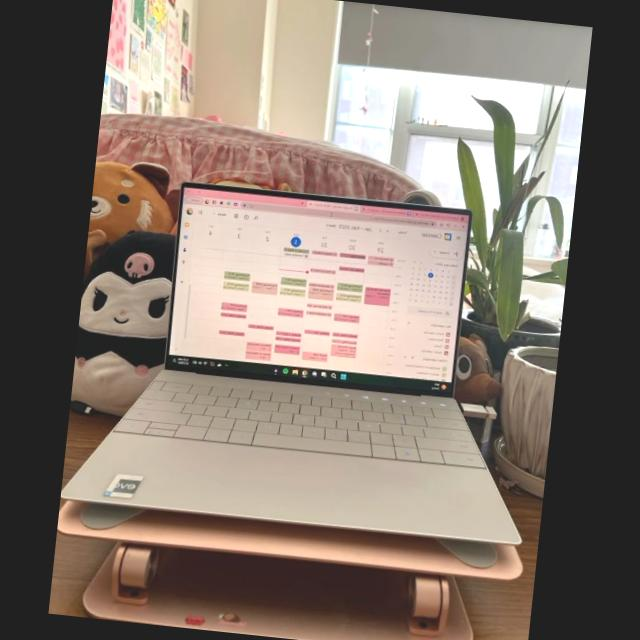laptop: (80, 178, 538, 570)
